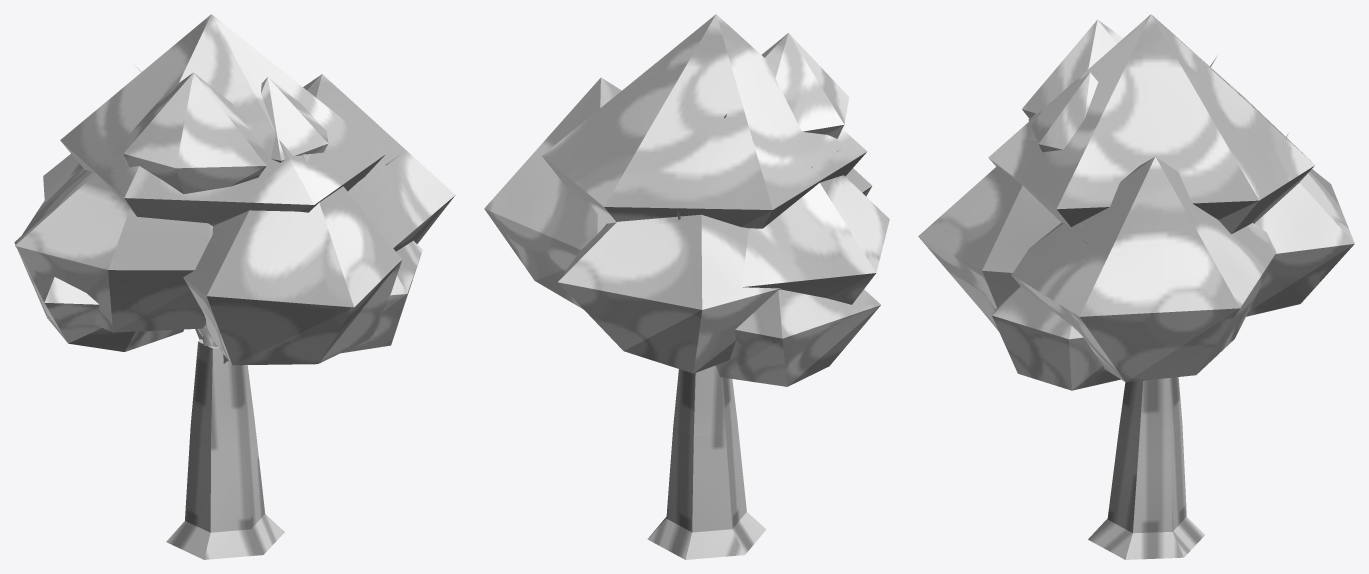
File: tree_maple_2.obj
The picture shows the model from 3 angles, left to right: view 1: azimuth 30°, elevation 25°; view 2: azimuth 150°, elevation 25°; view 3: azimuth 270°, elevation 25°; orthographic projection.
Visible parts, largest first — view 1: tree_maple_2; view 2: tree_maple_2; view 3: tree_maple_2.
Boxes of the visible parts, box(x1,y1,x2,y2) form: tree_maple_2: box(14, 14, 455, 559); tree_maple_2: box(484, 14, 889, 559); tree_maple_2: box(918, 14, 1354, 559).
Bounding box in the file's own units: 0.8284 × 1.08 × 0.8219.
